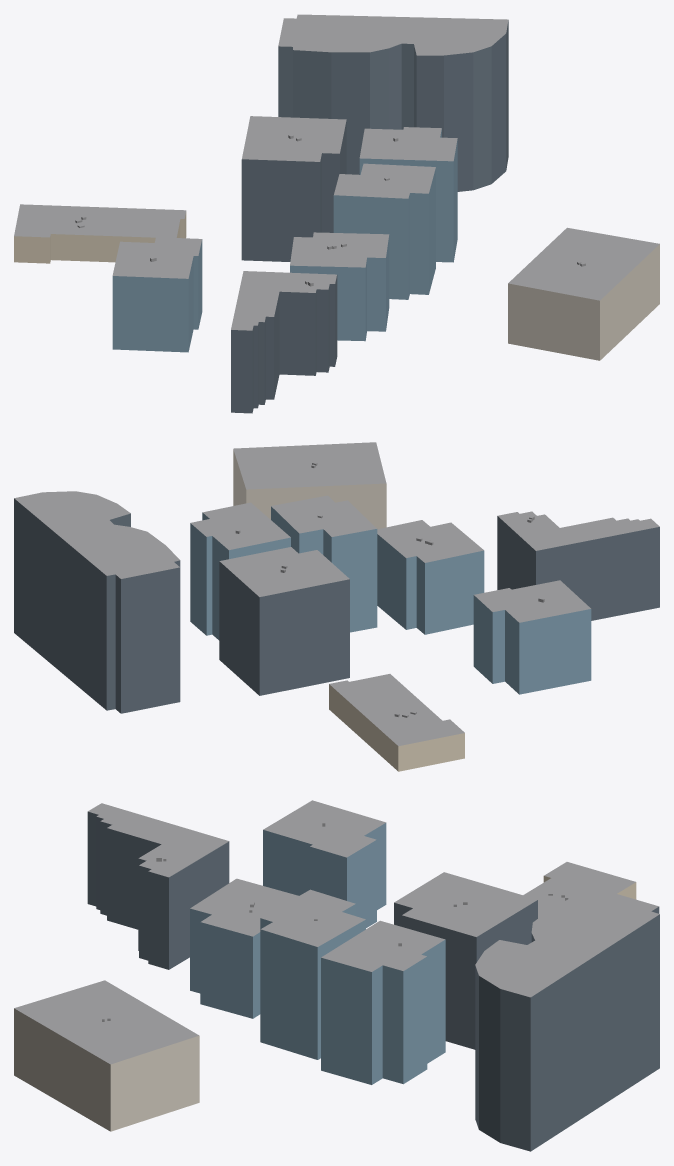
File: building_1_6.glb
3 views of the same model, one above another, from view 1: azimuth 30°, elevation 25°; view 2: azimuth 150°, elevation 25°; view 3: azimuth 270°, elevation 25° (orthographic). The views are drawn at different scales.
Visible parts, largest first — view 1: glass_dark, roof, glass_blue, concrete_warm, sandstone; view 2: glass_dark, roof, glass_blue, sandstone, concrete_warm; view 3: glass_dark, roof, glass_blue, concrete_warm.
Boxes of the visible parts, <box> form: glass_dark: <box>231,20,508,413</box>; roof: <box>14,14,659,330</box>; glass_blue: <box>112,128,457,352</box>; concrete_warm: <box>508,244,659,360</box>; sandstone: <box>14,212,186,263</box>; glass_dark: <box>14,498,659,713</box>; roof: <box>14,442,659,746</box>; glass_blue: <box>190,506,591,694</box>; sandstone: <box>329,684,464,771</box>; concrete_warm: <box>233,449,386,529</box>; glass_dark: <box>87,811,659,1151</box>; roof: <box>14,800,659,1064</box>; glass_blue: <box>190,823,445,1084</box>; concrete_warm: <box>14,1008,199,1131</box>.
Size of the model in its own units: 281 by 75 by 285.
